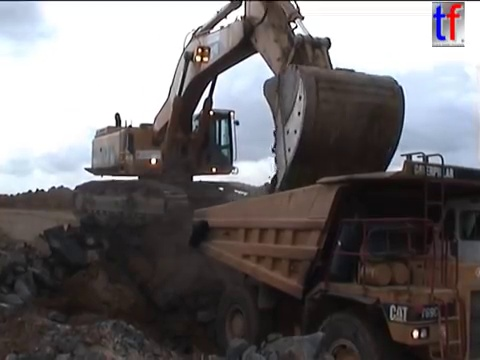excavator: (68, 1, 408, 231)
truck: (186, 148, 480, 360)
